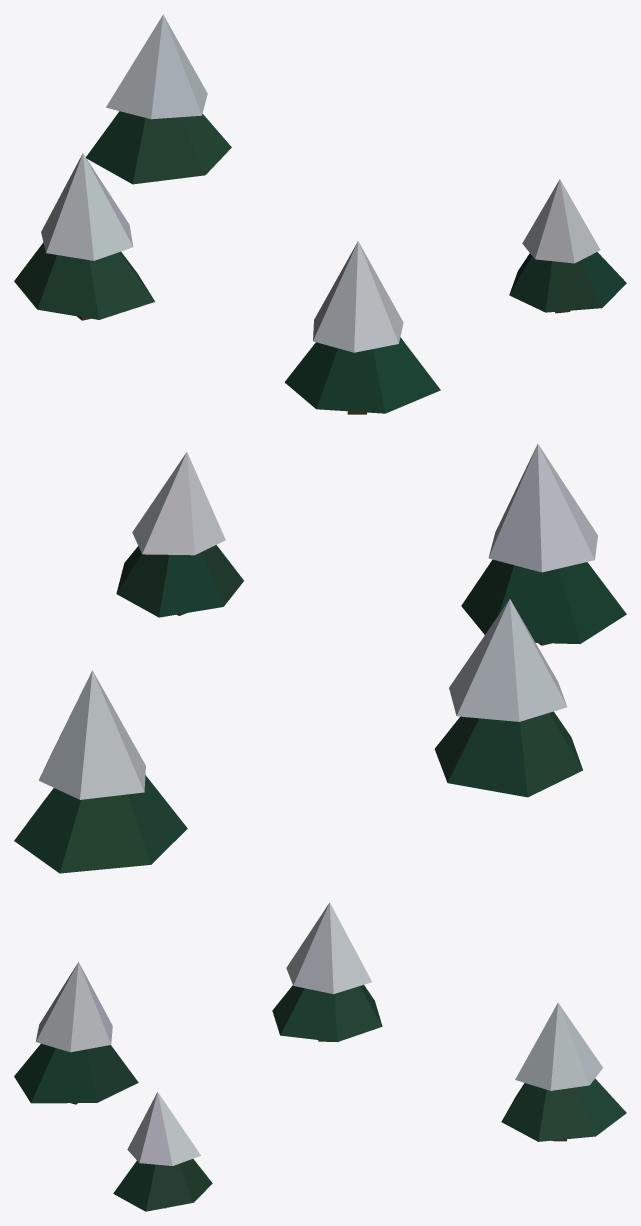
File: HillForestT-Far.glb
3 views of the same model, one above another, from view 1: azimuth 30°, elevation 25°; view 2: azimuth 150°, elevation 25°; view 3: azimuth 270°, elevation 25° (orthographic). The views are drawn at different scales.
Visible parts, largest first — view 1: HillForestT-Far; view 2: HillForestT-Far; view 3: HillForestT-Far.
Part boxes in pixels (x1,y1,x2,y2): HillForestT-Far: (14, 14, 626, 414); HillForestT-Far: (14, 443, 626, 873); HillForestT-Far: (14, 902, 626, 1211).
Size of the model in its own units: 1.33 by 0.4565 by 1.72.
